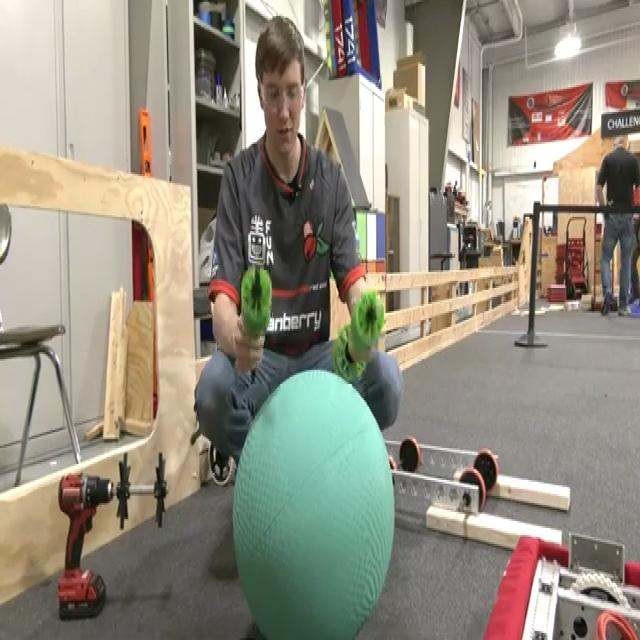Algae: (231, 366, 395, 636)
